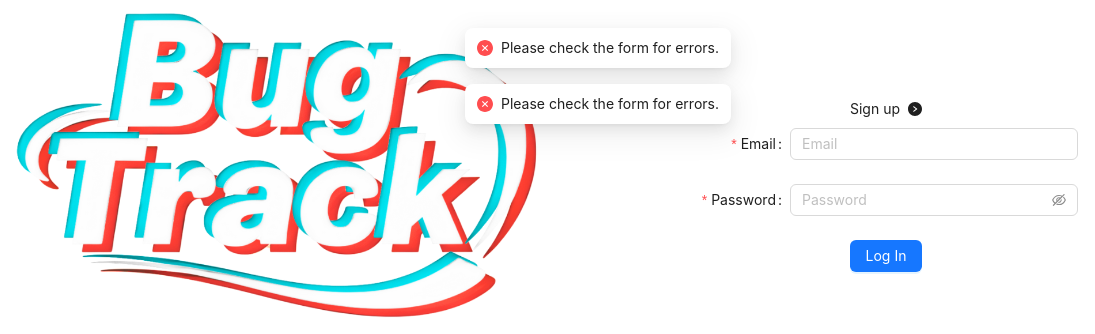
Test: Login › errors when missing password
Expected: the button "Log In" is shown, [850,240,922,272]
Step 1. Type "some email" into the field with placeholder "Email" → (934,144), box [790,128,1078,160]
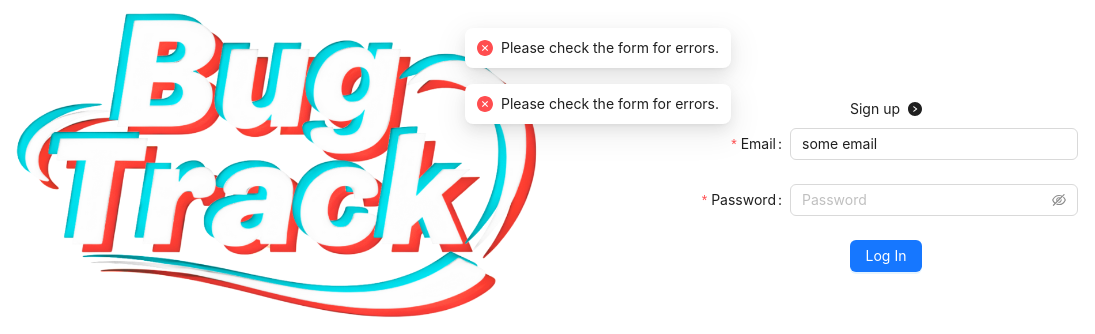
Step 2. Click the button "Log In" → (886,256), box [850,240,922,272]
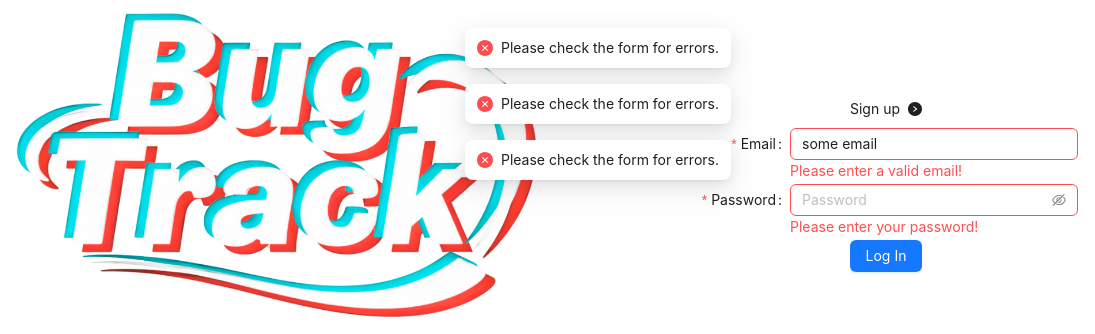
Expected: the text "Please enter your password!" is shown, [790,218,978,235]
